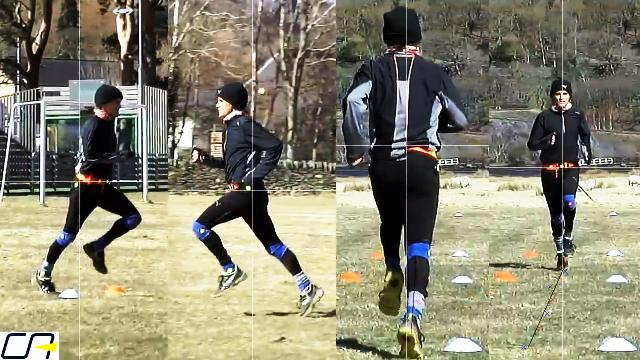berlari: (339, 4, 467, 360), (175, 78, 327, 322), (32, 73, 146, 303), (532, 68, 594, 276)
